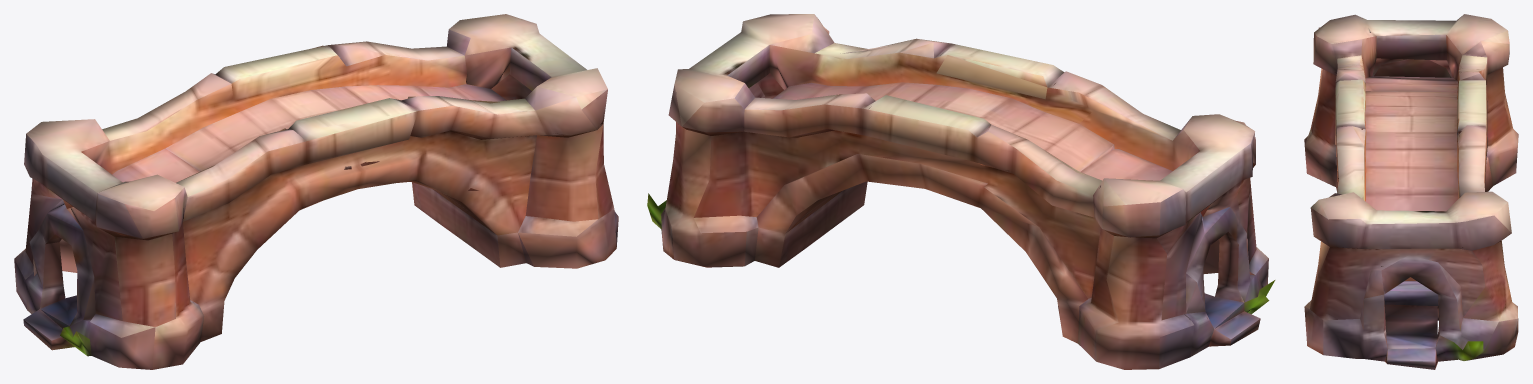
File: lg-toll-bridge.glb
3 renders of one model, left to right at view 1: azimuth 30°, elevation 25°; view 2: azimuth 150°, elevation 25°; view 3: azimuth 270°, elevation 25°, orthographic. The views are drawn at different scales.
Parts seen in each view (by area): view 1: geometry_0; view 2: geometry_0; view 3: geometry_0.
Part boxes in pixels (<box>): geometry_0: <box>14,14,618,369</box>; geometry_0: <box>647,14,1275,369</box>; geometry_0: <box>1304,14,1518,369</box>.
Bounding box in the file's own units: 1 × 0.3176 × 0.3942.
Materials: 1 (1 with a texture image).
